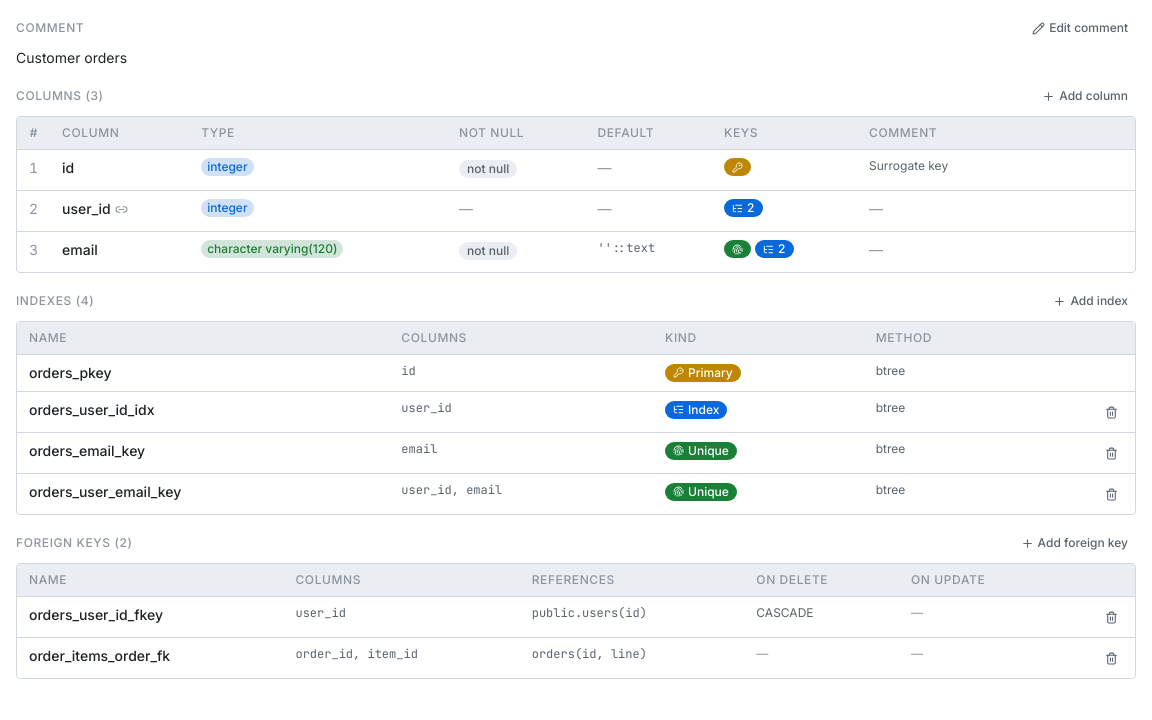
it: TableStructurePanel — derived per-column indicators › opens a read-only modal listing the indexes behind the chip
This screenshot has width=1152, height=720.
Click the button named "2 indexes on user_id" at point(743, 208), box [724, 199, 762, 217]
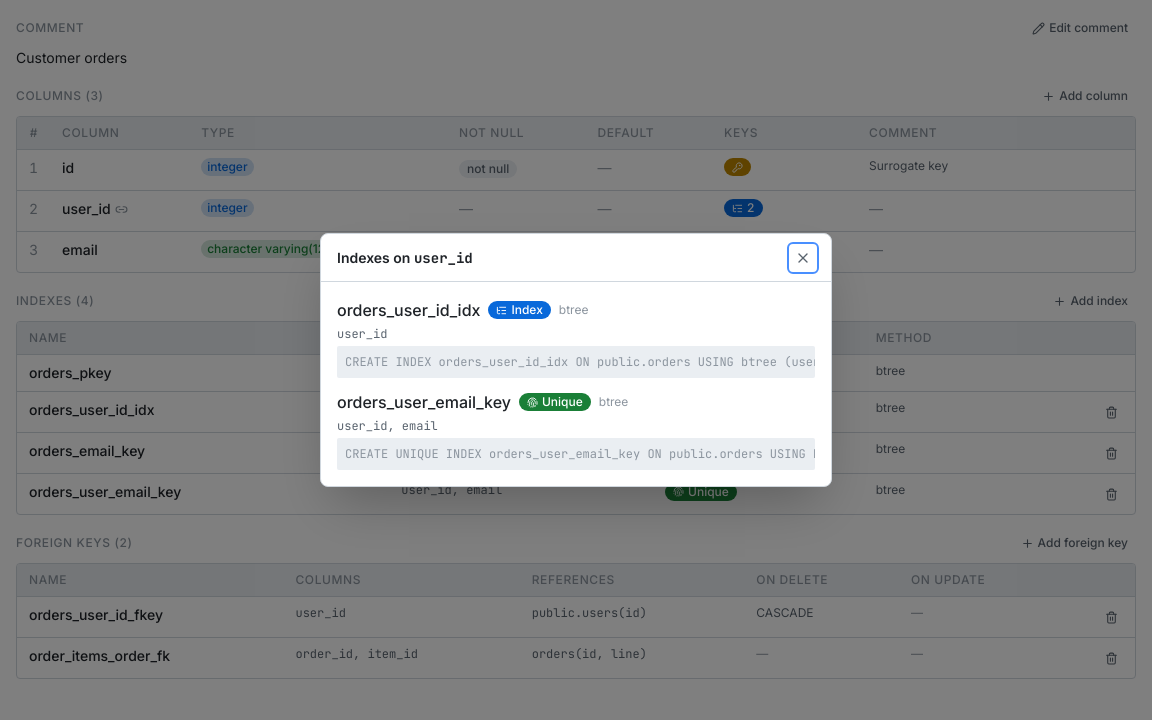
Expected: the text "orders_user_id_idx" is shown, [337, 298, 480, 322]
Expected: the text "orders_user_email_key" is shown, [337, 390, 511, 414]
Click the button named "Close" at point(803, 258), box [791, 246, 815, 270]
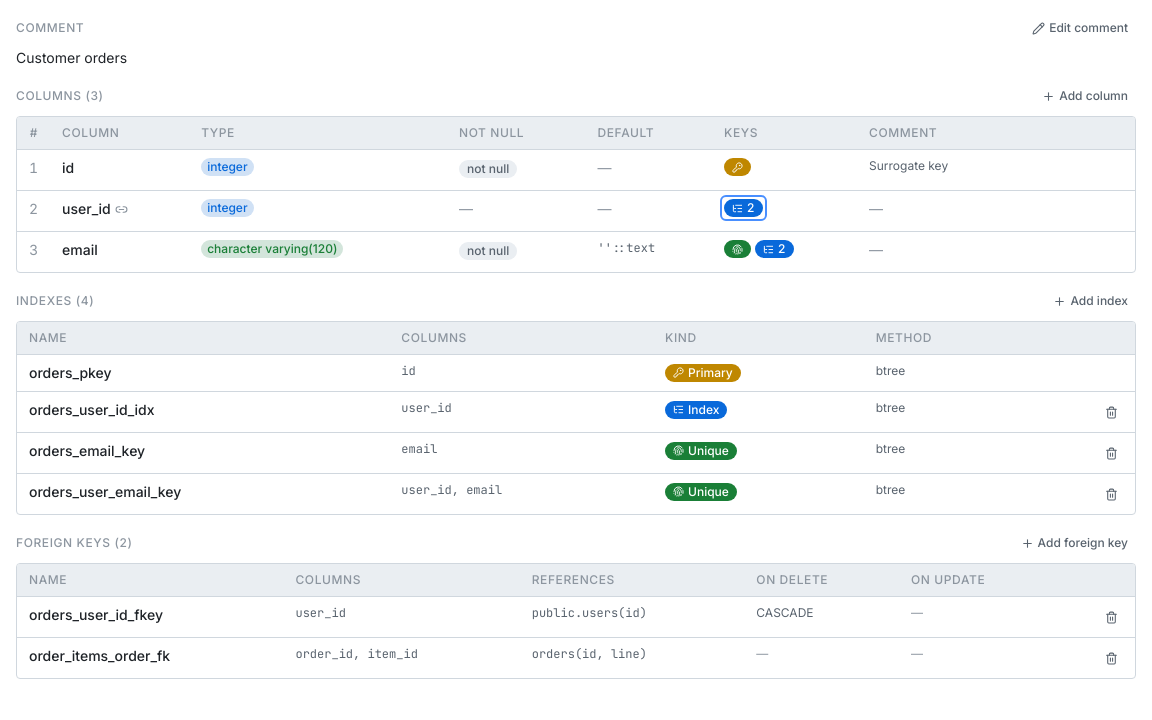
Expected: the dialog is gone
